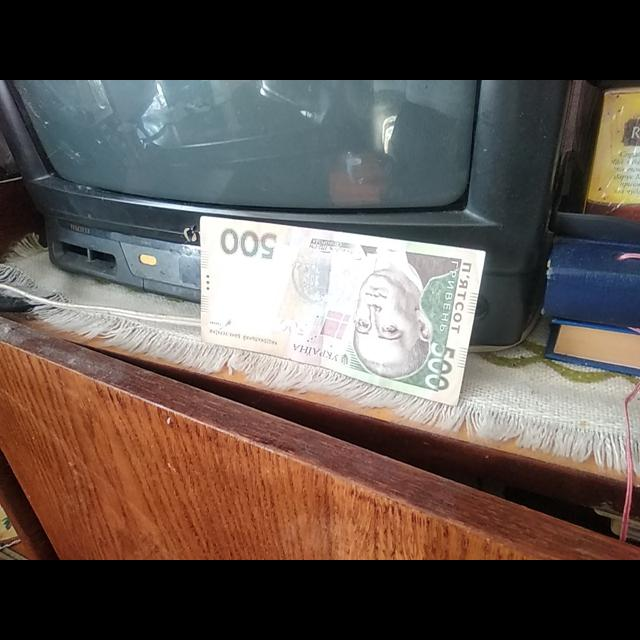500uah: (199, 215, 485, 407)
